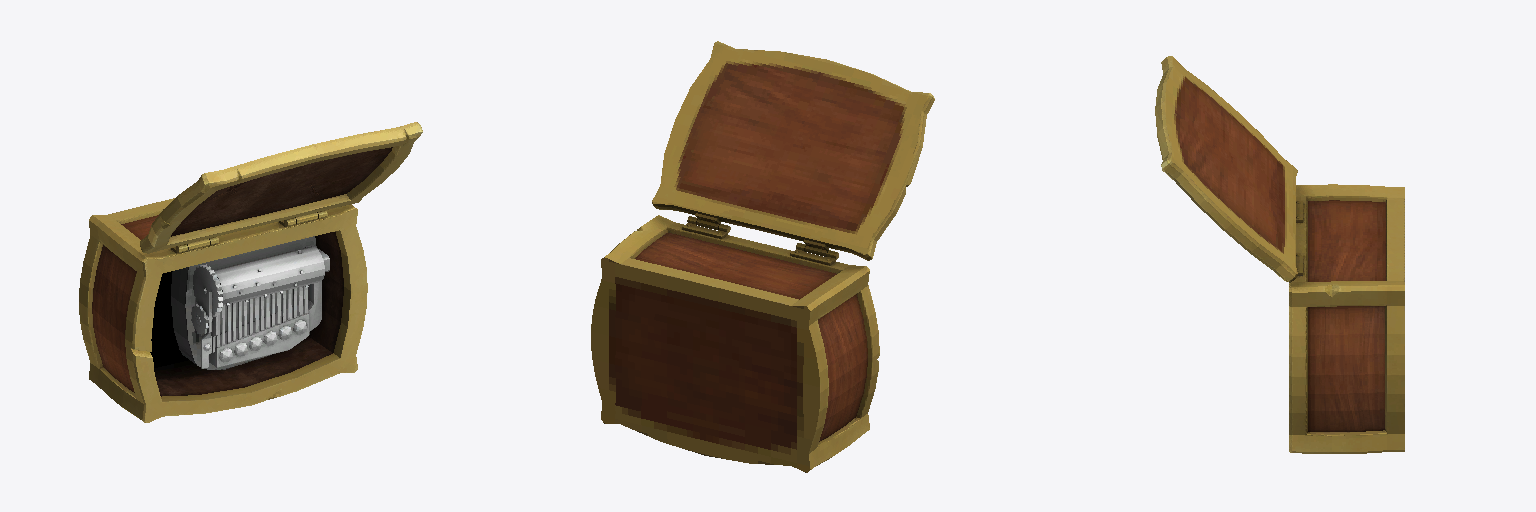
3 views of the same model, side by side, from view 1: azimuth 30°, elevation 25°; view 2: azimuth 150°, elevation 25°; view 3: azimuth 270°, elevation 25° (orthographic).
Visible parts, largest first — view 1: mesh0, mesh3, mesh1, mesh2; view 2: mesh0, mesh2; view 3: mesh2, mesh0.
Boxes of the visible parts, box(x1,y1,x2,y2) form: mesh0: box(79, 122, 422, 422); mesh3: box(171, 236, 329, 369); mesh1: box(150, 147, 392, 395); mesh2: box(92, 215, 158, 392); mesh0: box(591, 41, 934, 472); mesh2: box(635, 64, 904, 441); mesh2: box(1175, 77, 1385, 431); mesh0: box(1155, 56, 1404, 453).
Size of the model in its own units: 22.47 by 28.07 by 20.61.
4 materials, 1 textured.